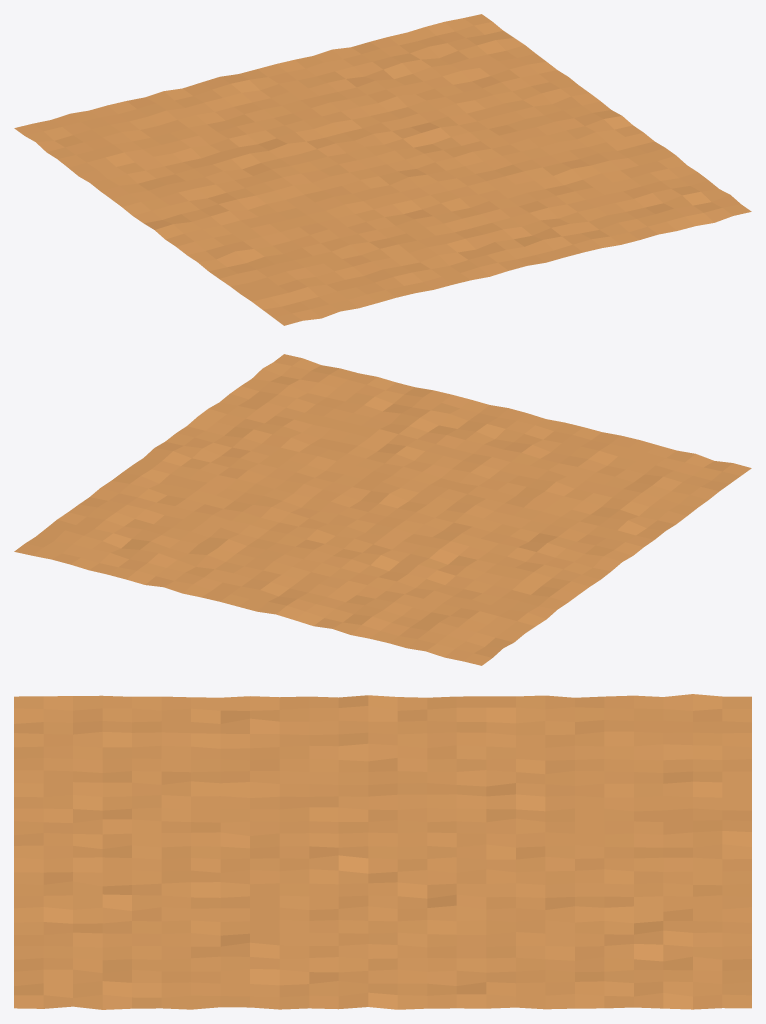
The model's file is Sand_Floor_Model.fbx.
3 views of the same model, one above another, from view 1: azimuth 30°, elevation 25°; view 2: azimuth 150°, elevation 25°; view 3: azimuth 270°, elevation 25° (orthographic). The views are drawn at different scales.
Parts seen in each view (by area): view 1: Grid; view 2: Grid; view 3: Grid.
Boxes of the visible parts, x1,y1,x2,y2 form: Grid: (14, 14, 751, 325); Grid: (14, 354, 751, 665); Grid: (14, 694, 751, 1009).
Bounding box in the file's own units: 2000 × 19.72 × 2000.
